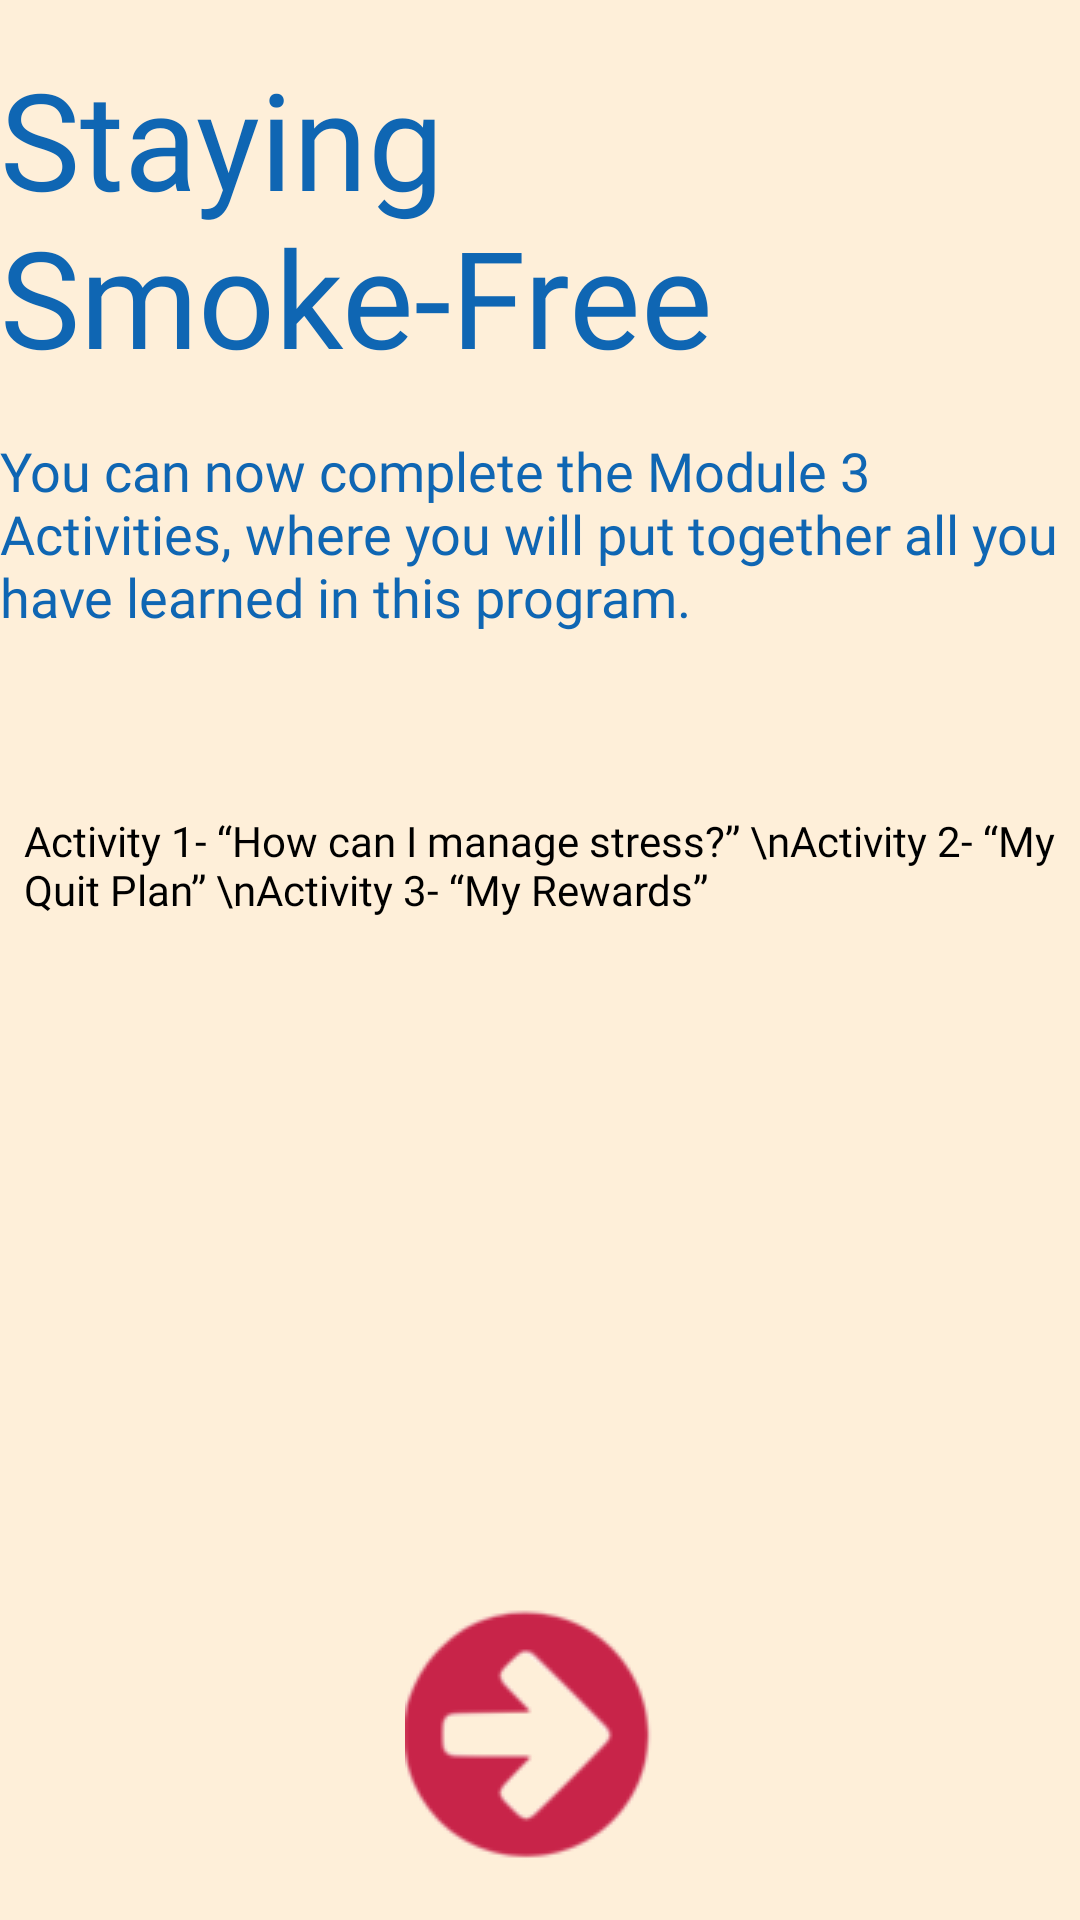

Point at icon controls on the screen. Image size 1080px x 1920px, points as (x=x, y=y).
next: (x=527, y=1734)
